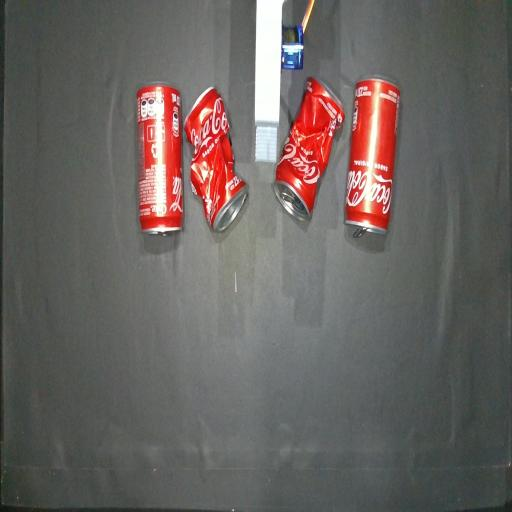lata: (345, 77, 400, 237), (138, 86, 182, 233)
lata_defectuoso: (274, 77, 344, 219), (184, 87, 248, 231)
